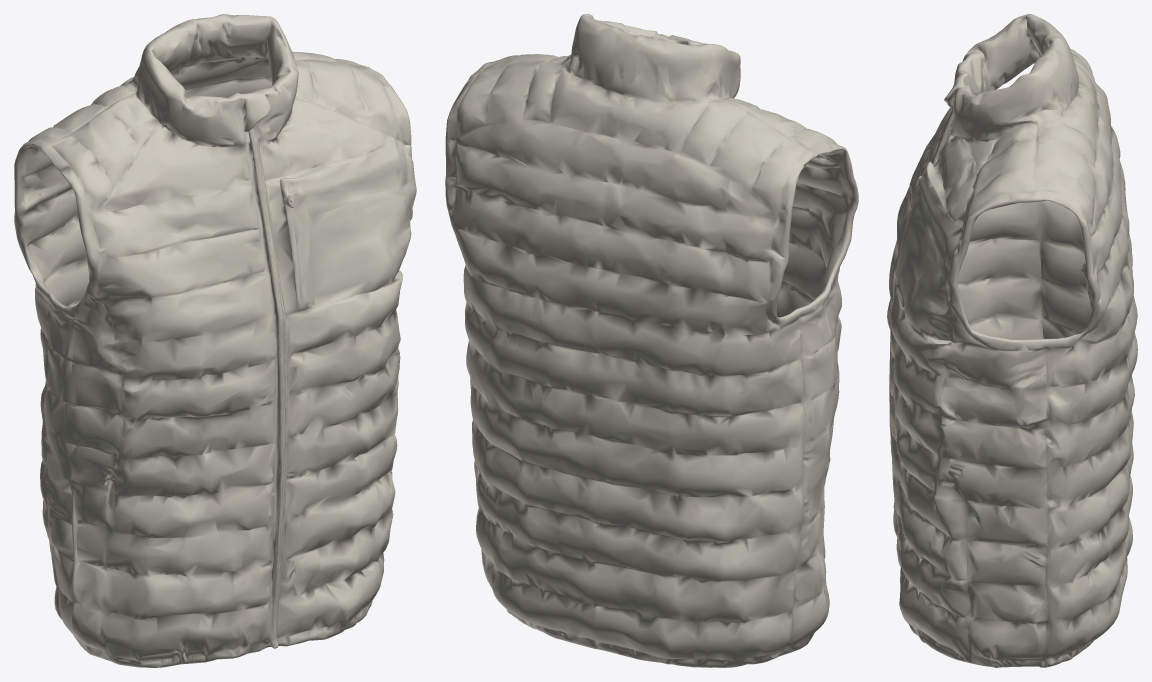
3 renders of one model, left to right at view 1: azimuth 30°, elevation 25°; view 2: azimuth 150°, elevation 25°; view 3: azimuth 270°, elevation 25°, orthographic. The views are drawn at different scales.
Visible parts, largest first — view 1: tripo_node_4f6a4ed6-8e34-4ad8-87d8-be9bec66abb6; view 2: tripo_node_4f6a4ed6-8e34-4ad8-87d8-be9bec66abb6; view 3: tripo_node_4f6a4ed6-8e34-4ad8-87d8-be9bec66abb6.
Part boxes in pixels (x1,y1,x2,y2): tripo_node_4f6a4ed6-8e34-4ad8-87d8-be9bec66abb6: (14,14,416,667); tripo_node_4f6a4ed6-8e34-4ad8-87d8-be9bec66abb6: (445,14,858,667); tripo_node_4f6a4ed6-8e34-4ad8-87d8-be9bec66abb6: (887,14,1137,667).
Size of the model in its own units: 0.599 by 0.9999 by 0.4003.
1 material, 1 textured.
